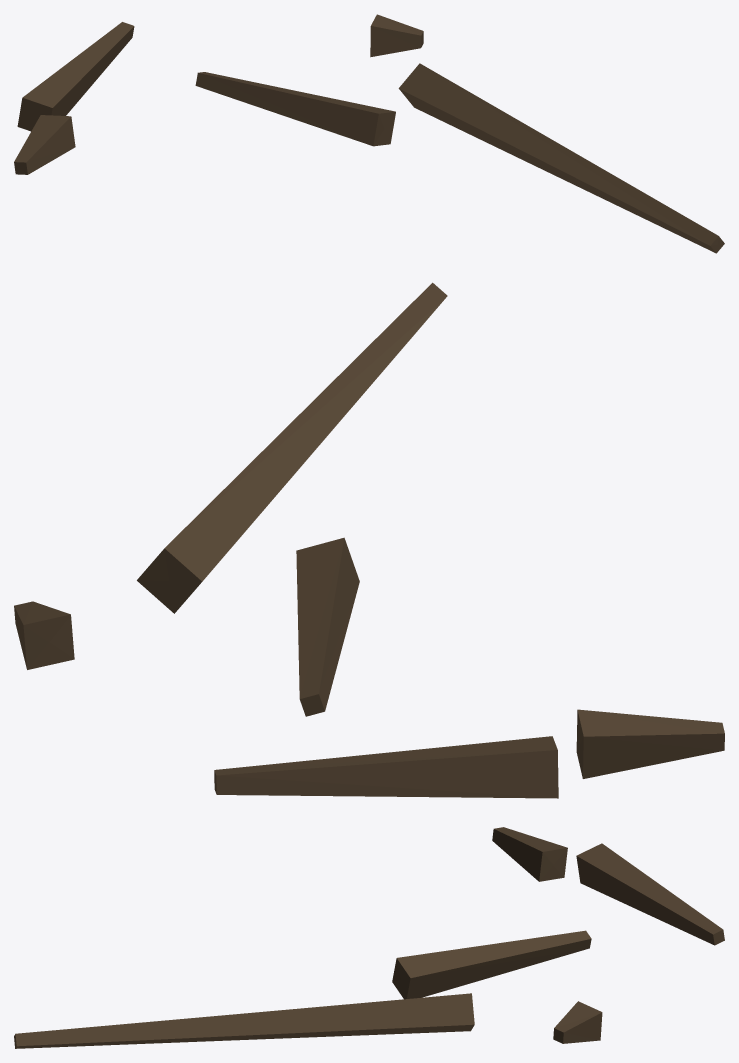
File: fallen_branches-far.glb
The picture shows the model from 3 angles, top to bottom: view 1: azimuth 30°, elevation 25°; view 2: azimuth 150°, elevation 25°; view 3: azimuth 270°, elevation 25°; orthographic projection. The views are drawn at different scales.
Visible parts, largest first — view 1: world-scenery/fallen_branches-far; view 2: world-scenery/fallen_branches-far; view 3: world-scenery/fallen_branches-far.
Boxes of the visible parts, x1,y1,x2,y2 form: world-scenery/fallen_branches-far: (14,14,724,253); world-scenery/fallen_branches-far: (14,282,724,798); world-scenery/fallen_branches-far: (14,827,724,1048).
Size of the model in its own units: 1.11 by 0.0989 by 1.57.
